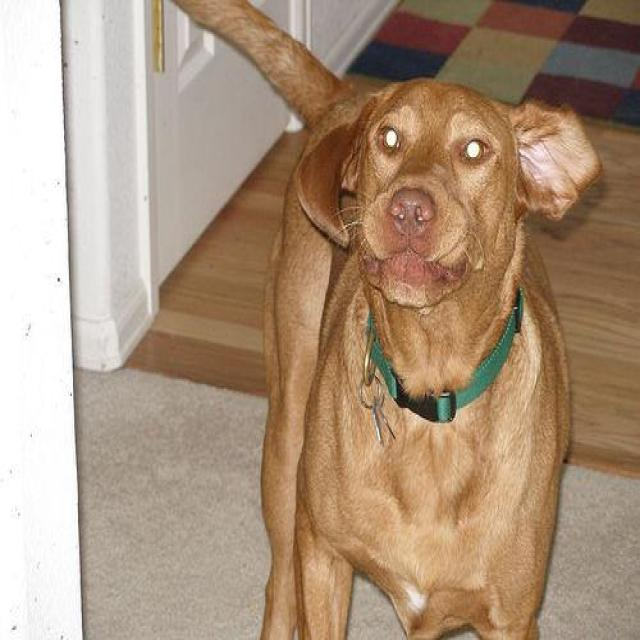vizsla: (175, 0, 600, 638)
